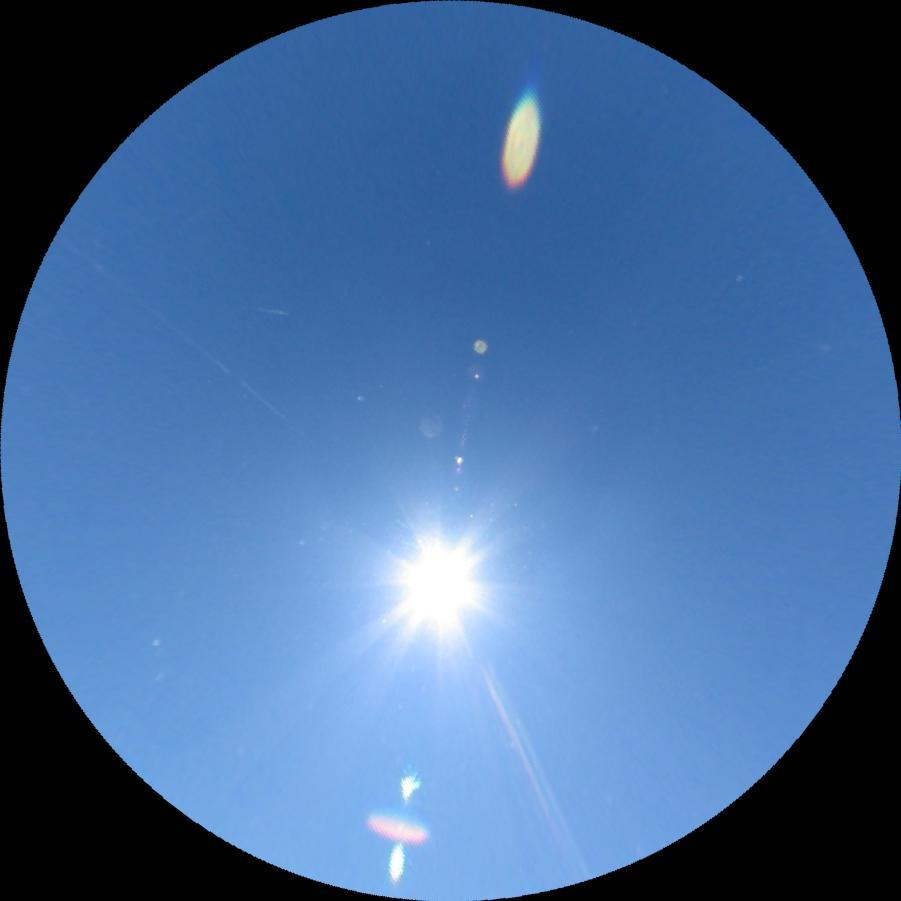contrail young: (246, 304, 289, 317)
parasite: (53, 229, 287, 418), (456, 618, 580, 880)
sun: (388, 529, 489, 640)
